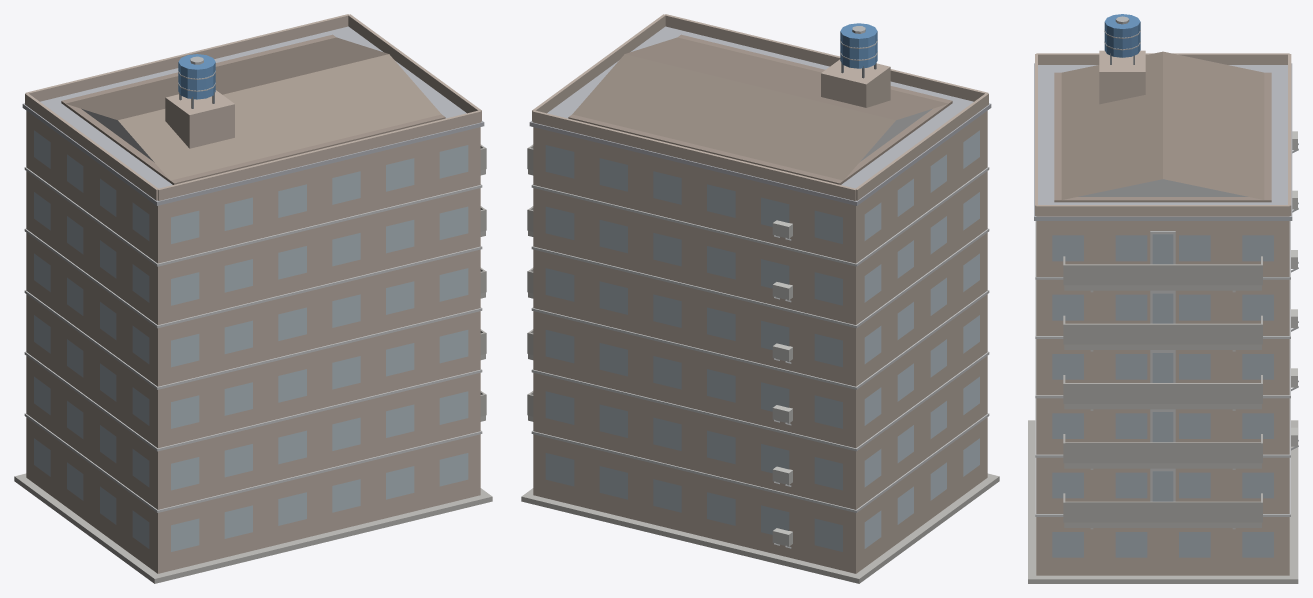
File: 08_residential_mid-05.glb
3 renders of one model, left to right at view 1: azimuth 30°, elevation 25°; view 2: azimuth 150°, elevation 25°; view 3: azimuth 270°, elevation 25°, orthographic. The views are drawn at different scales.
Size of the model in its own units: 18.45 by 23.47 by 12.84.
